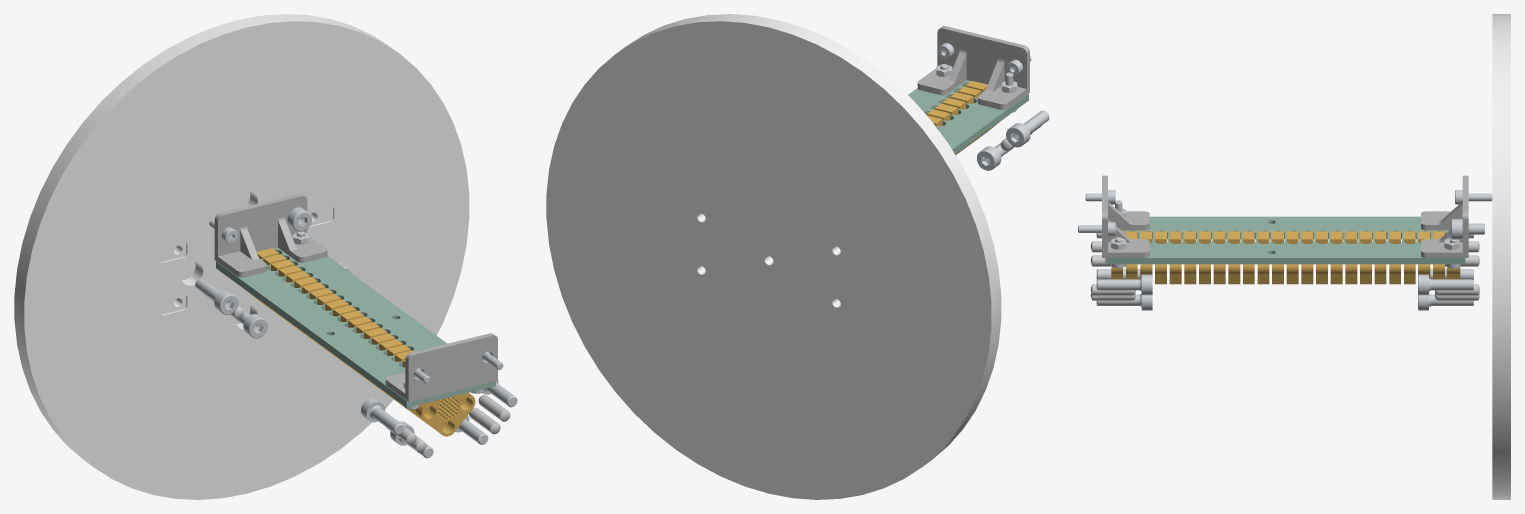
File: linear_array.gltf
3 views of the same model, side by side, from view 1: azimuth 30°, elevation 25°; view 2: azimuth 150°, elevation 25°; view 3: azimuth 270°, elevation 25° (orthographic). The views are drawn at different scales.
Parts seen in each view (by area): view 1: [REF-ONLY]accelerator_plate, ESB_Linear_Array_PCB, Part 2, Part 3, Hex socket head cap screw M3x0.50 x 12 (×3), occurrence of .781; view 2: [REF-ONLY]accelerator_plate, Part 3, ESB_Linear_Array_PCB, Hex socket head cap screw M3x0.50 x 12 (×2); view 3: ESB_Linear_Array_PCB, [REF-ONLY]accelerator_plate, Hex socket head cap screw M3x0.50 x 12 (×4), Part 3, Part 2.
Boxes of the visible parts, <box> form: [REF-ONLY]accelerator_plate: <box>14,14,469,499</box>; ESB_Linear_Array_PCB: <box>216,247,495,407</box>; Part 2: <box>214,193,327,277</box>; Part 3: <box>385,333,497,401</box>; Hex socket head cap screw M3x0.50 x 12 (×3): <box>195,278,404,434</box>; occurrence of .781: <box>415,392,475,436</box>; [REF-ONLY]accelerator_plate: <box>546,14,1001,499</box>; Part 3: <box>917,26,1029,109</box>; ESB_Linear_Array_PCB: <box>908,80,1028,154</box>; Hex socket head cap screw M3x0.50 x 12 (×2): <box>977,110,1049,170</box>; ESB_Linear_Array_PCB: <box>1105,216,1465,264</box>; [REF-ONLY]accelerator_plate: <box>1492,14,1510,499</box>; Hex socket head cap screw M3x0.50 x 12 (×4): <box>1096,274,1473,310</box>; Part 3: <box>1102,175,1149,257</box>; Part 2: <box>1421,175,1468,257</box>.
Bounding box in the file's own units: 0.1294 × 0.1295 × 0.1154.
